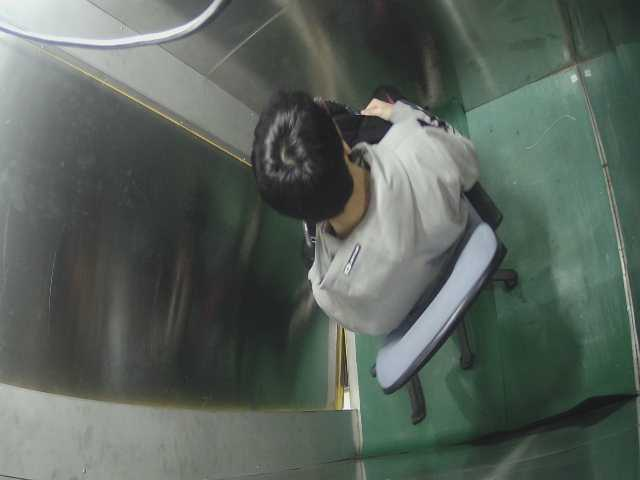chair: (363, 149, 513, 432)
person: (212, 80, 503, 361)
